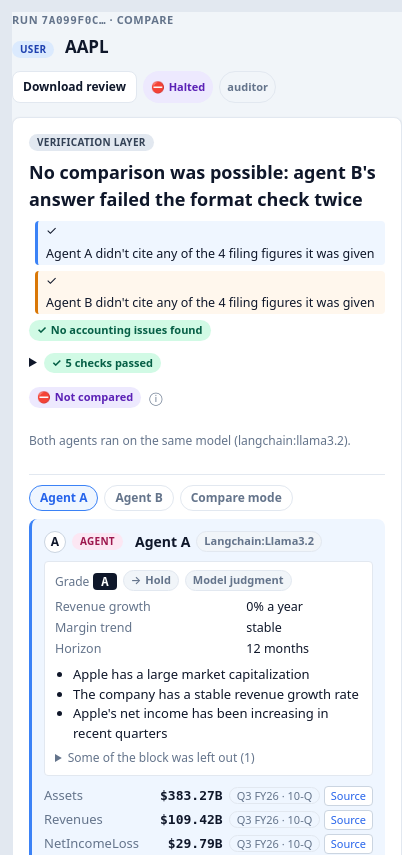
U7 — mobile Compare mode › is offered as a choice alongside one-lane-at-a-time tabs
This screenshot has width=402, height=855.
Click the button "Compare mode" at (236,498), box [180,484,293,510]
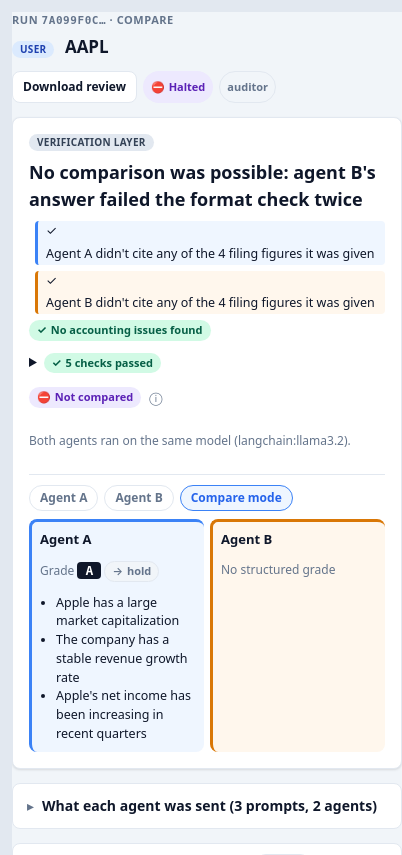
Expected: the element named "Compare mode" is shown, [29,518,385,752]
